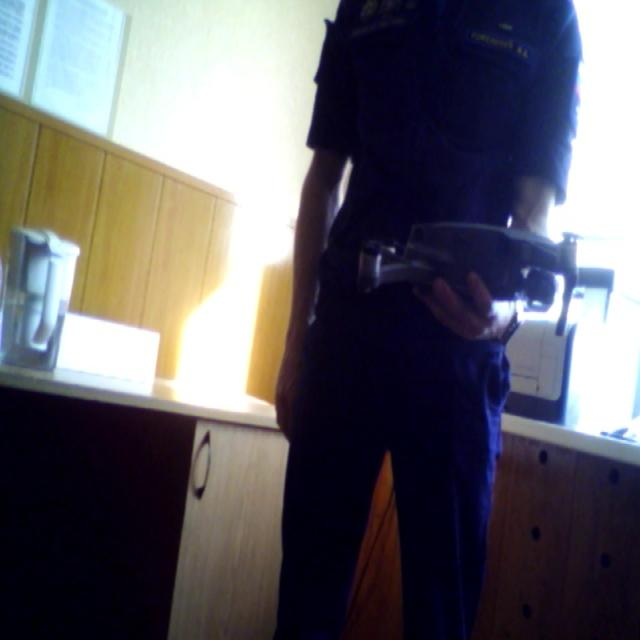drone: (339, 193, 640, 351)
